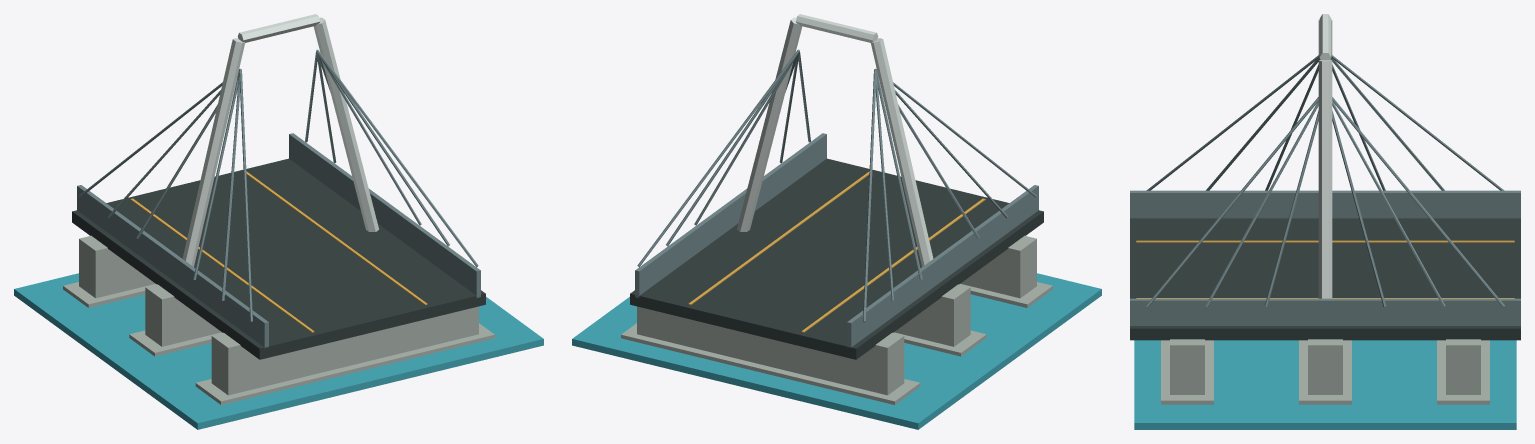
Rendered from bridge_lv3.glb.
3 renders of one model, left to right at view 1: azimuth 30°, elevation 25°; view 2: azimuth 150°, elevation 25°; view 3: azimuth 270°, elevation 25°, orthographic. The views are drawn at different scales.
Parts seen in each view (by area): view 1: asphalt, water, concrete, steel, white, gold; view 2: asphalt, water, concrete, steel, white, gold; view 3: asphalt, steel, water, concrete, white, gold.
Boxes of the visible parts, x1,y1,x2,y2 form: asphalt: [72, 158, 485, 359]; water: [14, 273, 543, 429]; concrete: [63, 235, 494, 404]; steel: [77, 49, 480, 348]; white: [182, 14, 378, 266]; gold: [130, 171, 427, 332]; asphalt: [630, 158, 1043, 359]; water: [572, 273, 1101, 429]; concrete: [621, 235, 1052, 404]; steel: [635, 49, 1038, 348]; white: [737, 14, 933, 266]; gold: [688, 171, 985, 332]; asphalt: [1130, 218, 1520, 340]; steel: [1130, 54, 1520, 325]; water: [1134, 340, 1516, 429]; concrete: [1161, 339, 1489, 404]; white: [1318, 14, 1332, 298]; gold: [1136, 240, 1514, 298].
Bounding box in the file's own units: 9.8 × 8.01 × 9.2.
